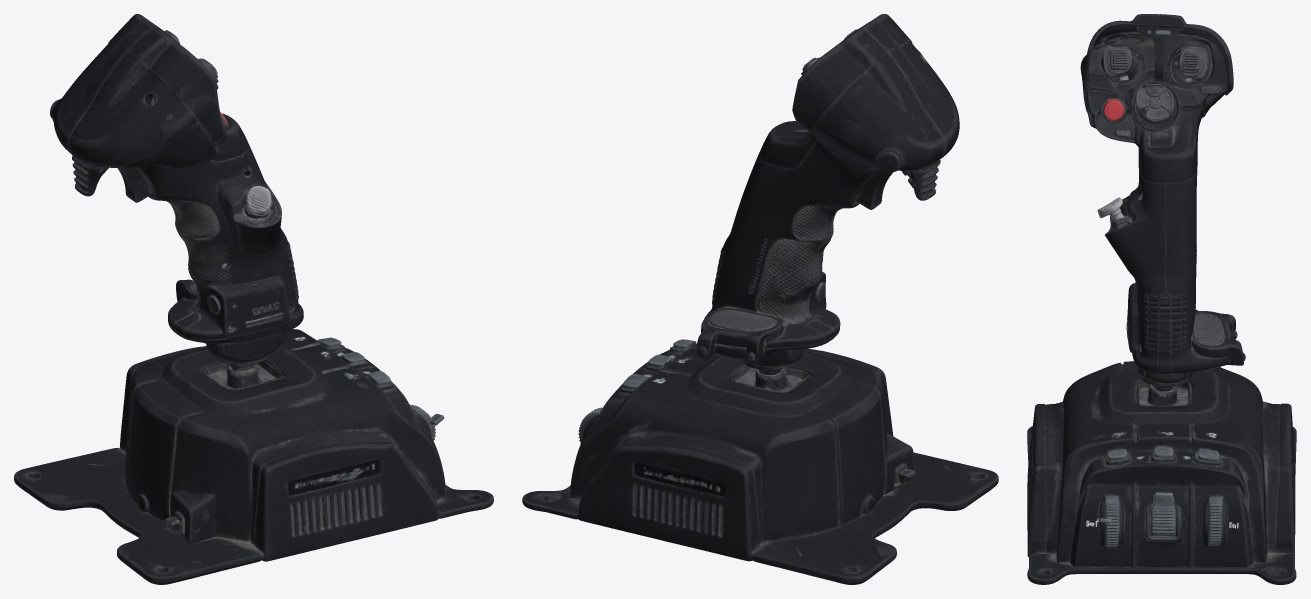
The model's file is right.glb.
The picture shows the model from 3 angles, left to right: view 1: azimuth 30°, elevation 25°; view 2: azimuth 150°, elevation 25°; view 3: azimuth 270°, elevation 25°; orthographic projection. The views are drawn at different scales.
Visible parts, largest first — view 1: HOTAS RIGHT; view 2: HOTAS RIGHT; view 3: HOTAS RIGHT.
Part boxes in pixels (x1=…): HOTAS RIGHT: x1=14, y1=14, x2=493, y2=584; HOTAS RIGHT: x1=522, y1=14, x2=998, y2=584; HOTAS RIGHT: x1=1027, y1=14, x2=1296, y2=584.
Bounding box in the file's own units: 1.44 × 1.9 × 1.03.
Materials: 1 (1 with a texture image).
